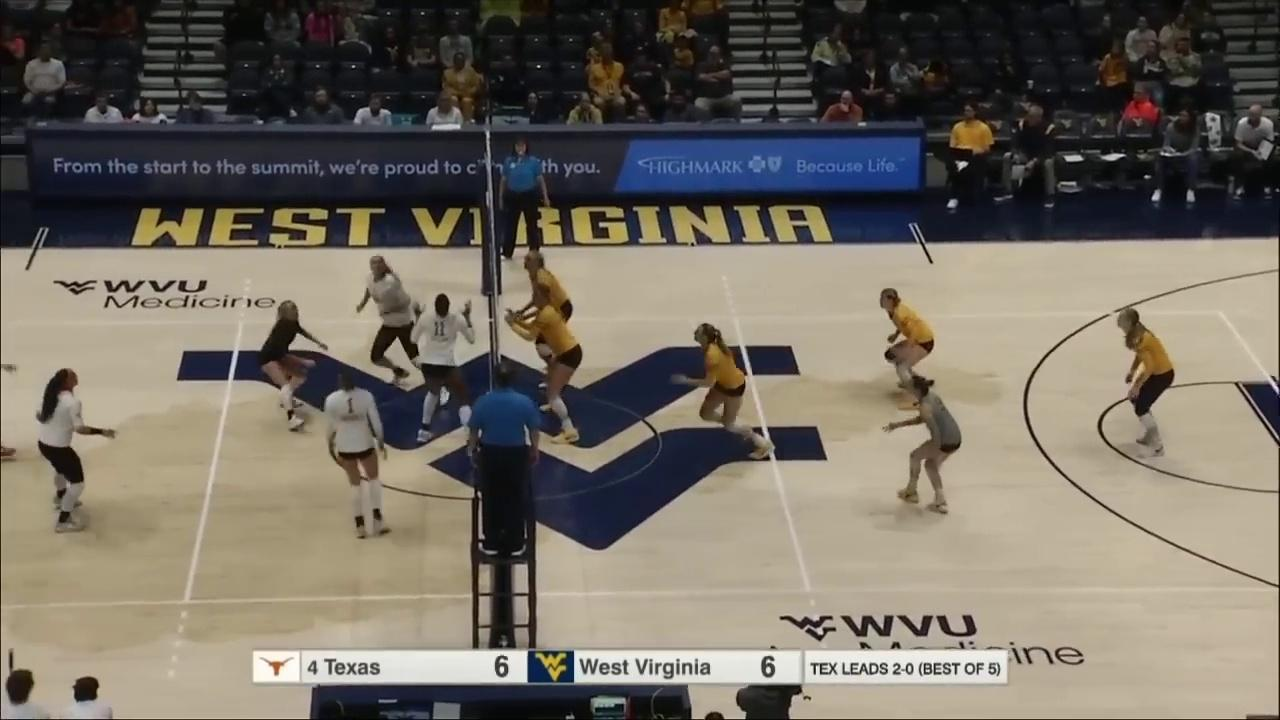player: (677, 322, 779, 463), (361, 251, 450, 403), (40, 367, 120, 530), (507, 287, 581, 442), (328, 368, 396, 535), (881, 375, 963, 510), (413, 293, 481, 449), (515, 249, 575, 405), (1117, 307, 1177, 455), (261, 297, 326, 431), (881, 290, 933, 403)
refree: (473, 364, 537, 558), (496, 139, 549, 259)
